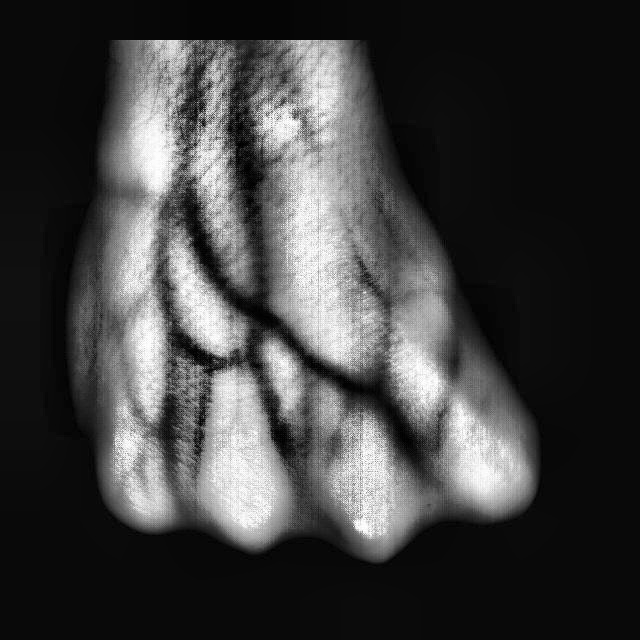Vein: (167, 205, 370, 408)
